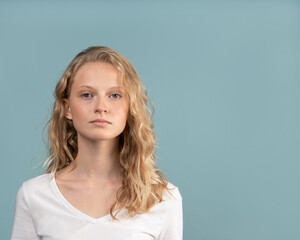teen: (37, 39, 149, 161)
